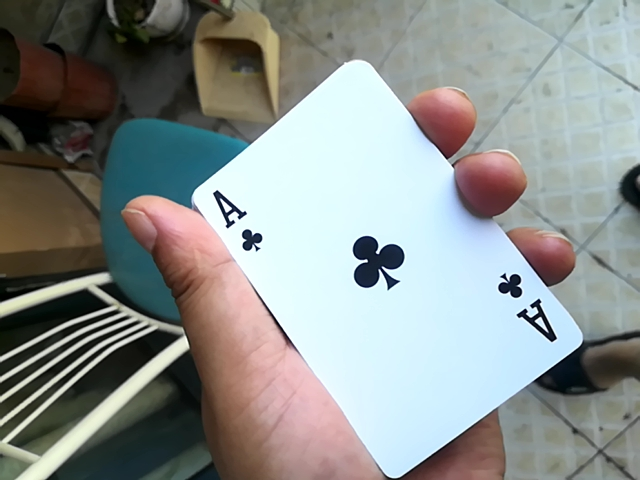mh a: (170, 58, 574, 473)
